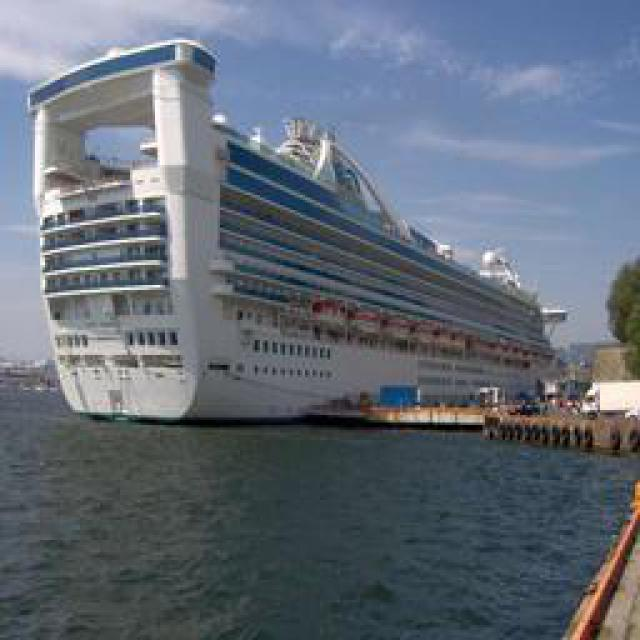Ship: (29, 67, 544, 430)
